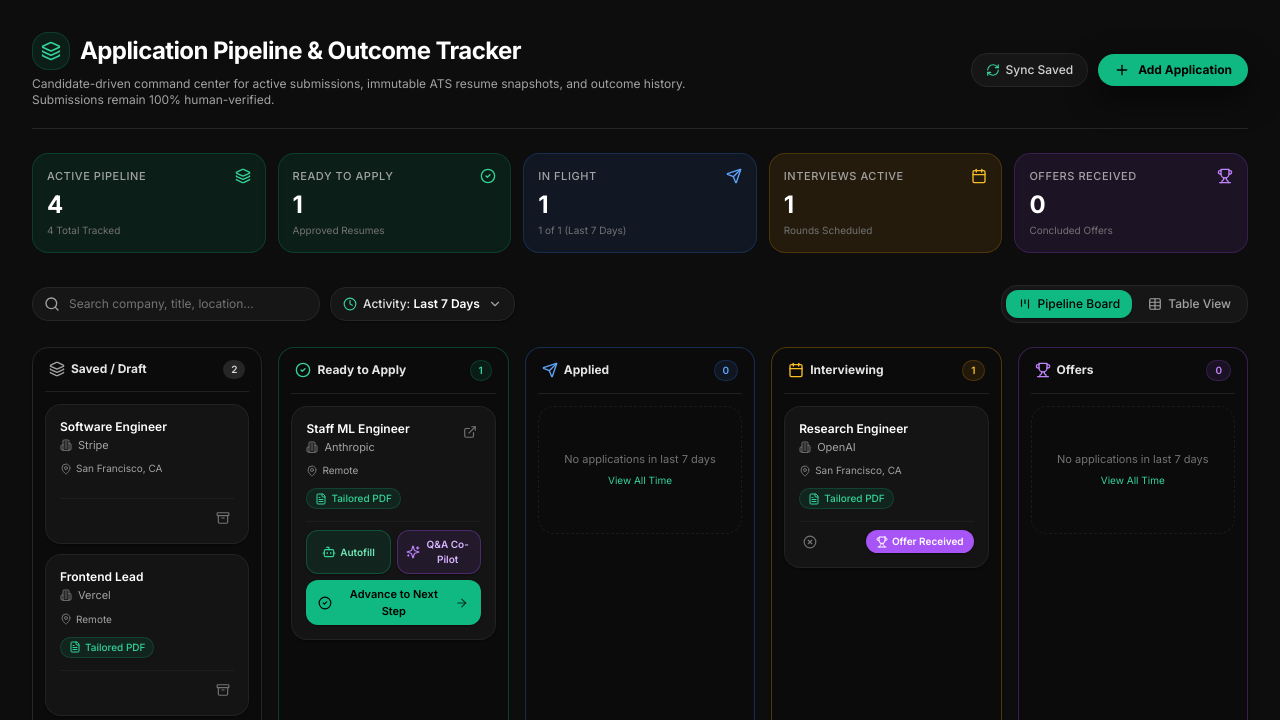
Test case: ApplicationsPage - Activity Date Filter Scoping & Behavior › resets filter back to All Time via empty state button
Expected: the text "OpenAI" is shown, [817,438,856,455]
// Switch to Today
Click the button with test id "activity-date-filter-button" at (422, 304), box [330,286,515,320]
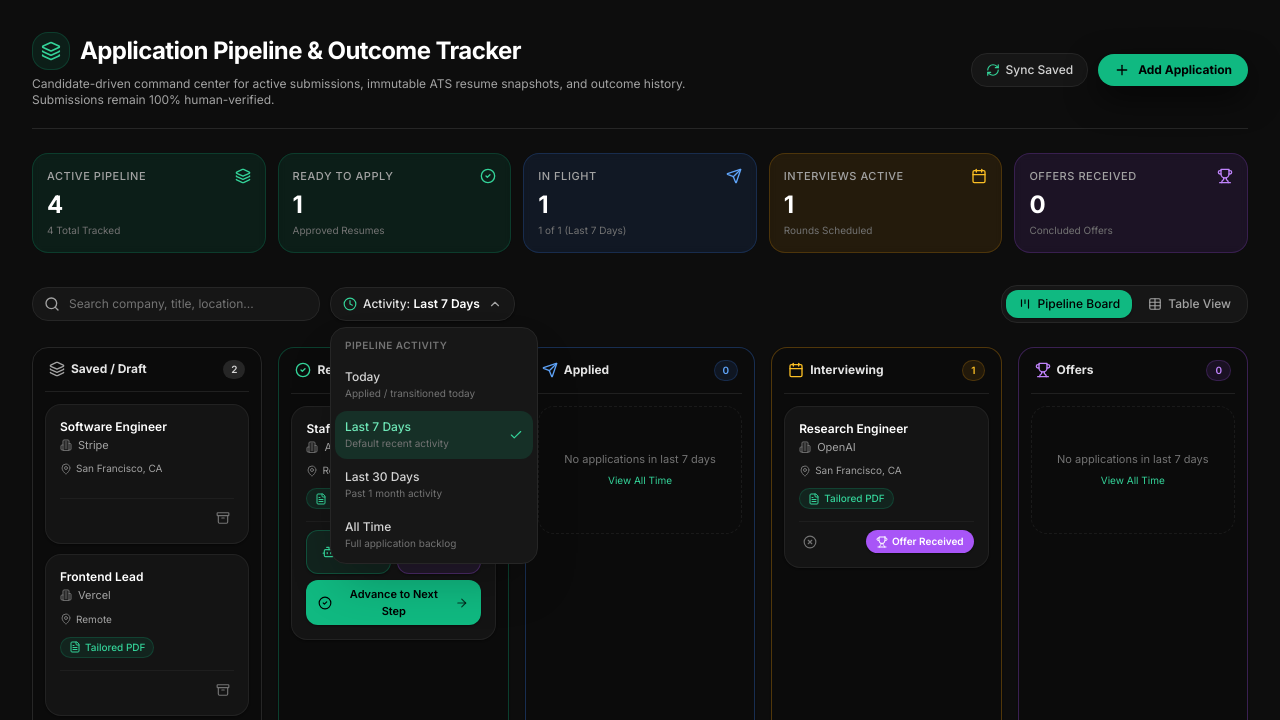
Click the button with test id "activity-option-today" at (434, 384), box [335,360,533,408]
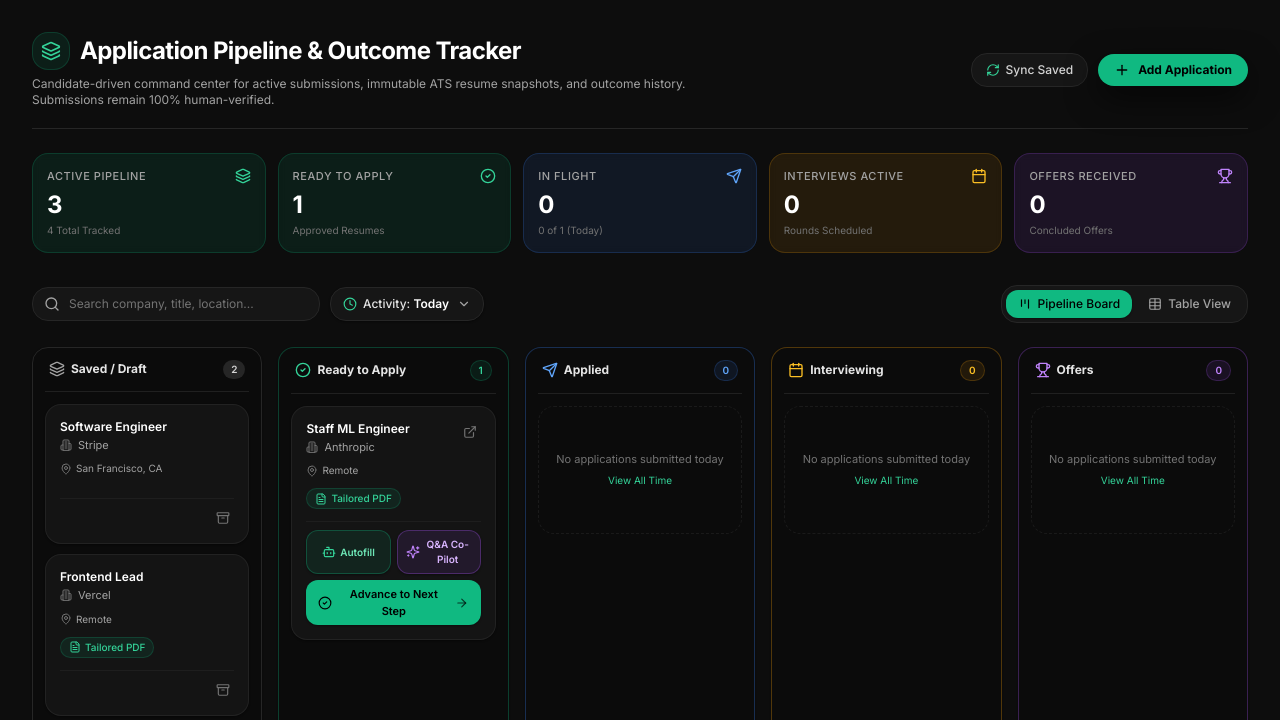
Expected: the text "OpenAI" is gone
Click the button "View All Time" below "Applied" at (640, 481), box [608,473,672,488]
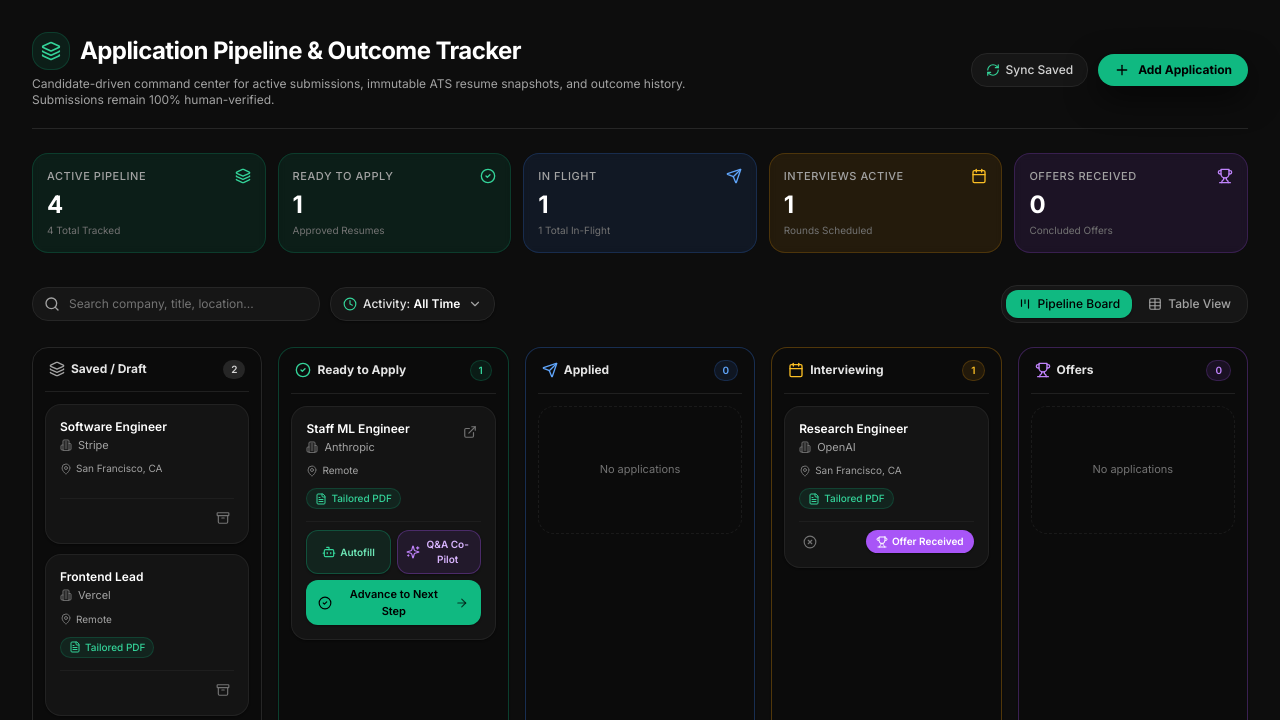
Expected: the text "OpenAI" is shown, [817,438,856,455]
Expected: the text "All Time" is shown, [414,296,460,310]
